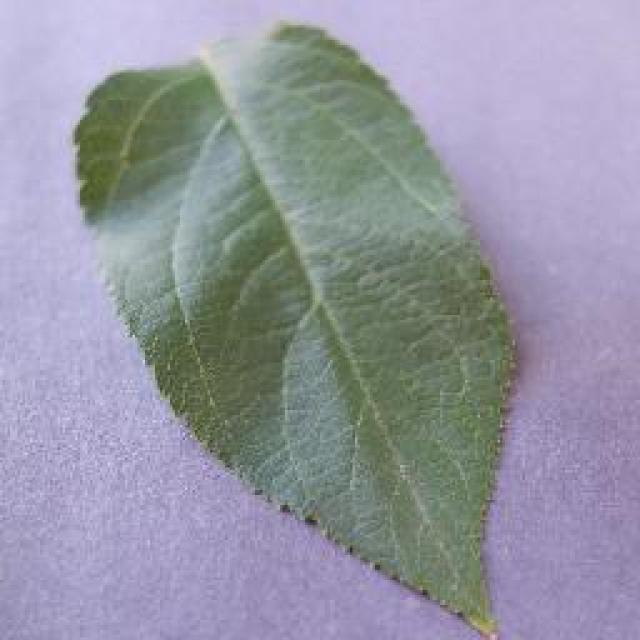apple scab disease: (70, 18, 522, 638)
